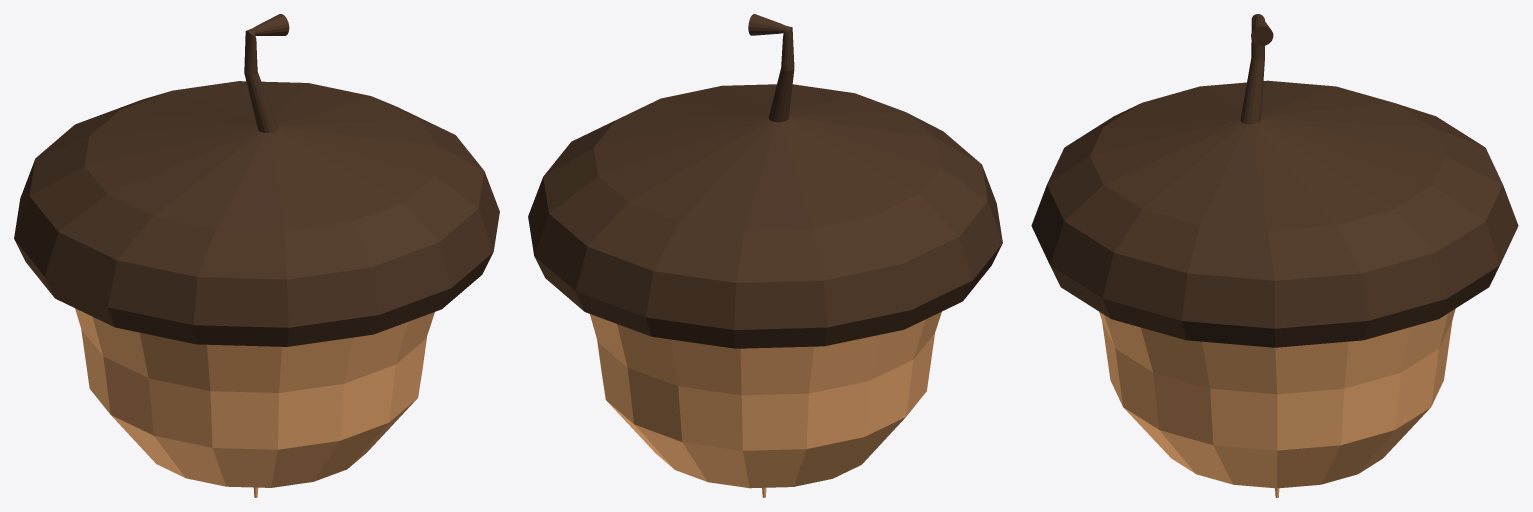
The model's file is Acorn_301119.fbx.
The picture shows the model from 3 angles, left to right: view 1: azimuth 30°, elevation 25°; view 2: azimuth 150°, elevation 25°; view 3: azimuth 270°, elevation 25°; orthographic projection. The views are drawn at different scales.
Visible parts, largest first — view 1: Cylinder.001, Cylinder; view 2: Cylinder.001, Cylinder; view 3: Cylinder.001, Cylinder.
Part boxes in pixels (x1,y1,x2,y2): Cylinder.001: (14,14,499,346); Cylinder: (75,308,434,497); Cylinder.001: (528,14,1002,348); Cylinder: (590,311,941,497); Cylinder.001: (1031,14,1518,347); Cylinder: (1099,309,1455,497).
Size of the model in its own units: 497 by 540 by 497.
